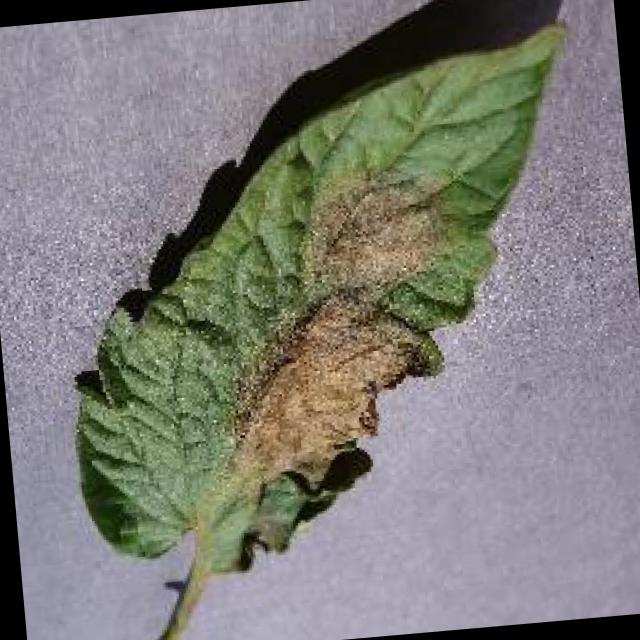Tomato_Late_Blight: (209, 172, 472, 496)
